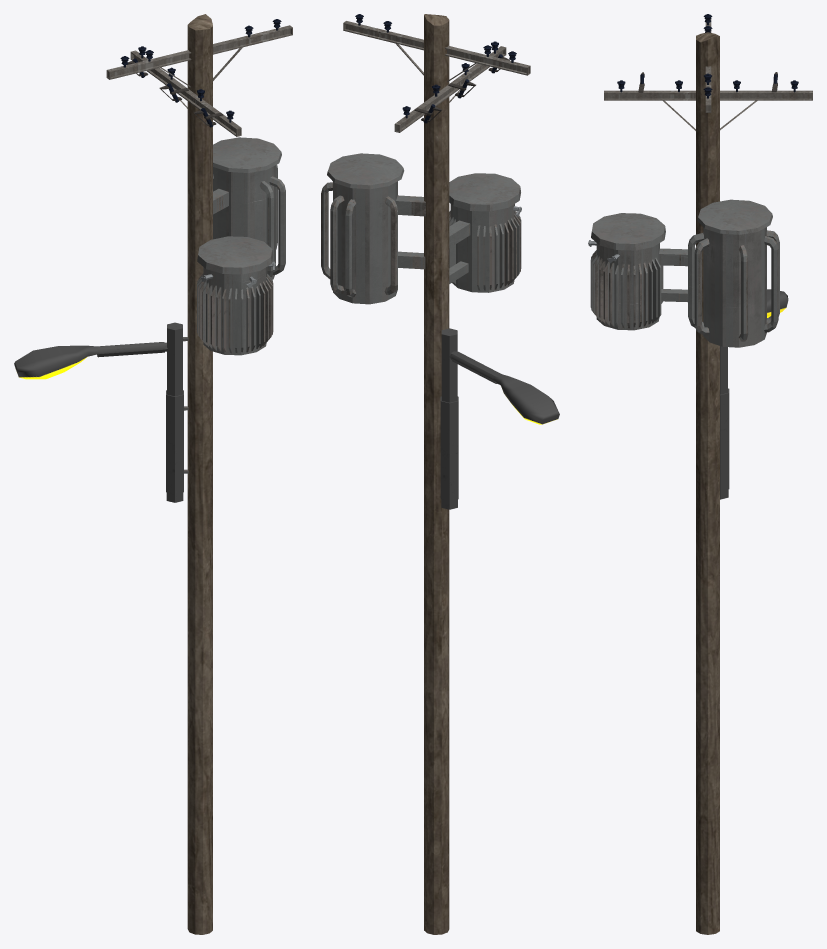
The model's file is 低压电杆.glb.
3 renders of one model, left to right at view 1: azimuth 30°, elevation 25°; view 2: azimuth 150°, elevation 25°; view 3: azimuth 270°, elevation 25°, orthographic.
Parts seen in each view (by area): view 1: BodyWoodenPoles_low, distributionTransformerBody_low (×2), BodylightPole_low, lightPole_low, body_low, body3_low, distributionTransformer1_3_low, distributionTransformer1_4_low; view 2: BodyWoodenPoles_low, distributionTransformerBody_low (×2), BodylightPole_low, lightPole_low, body_low, body3_low, distributionTransformer1_2_low, distributionTransformer1_6_low, distributionTransformer1_1_low, distributionTransformer1_5_low, Support1distributionTransformer1_low; view 3: BodyWoodenPoles_low, distributionTransformerBody_low (×2), body3_low, BodylightPole_low, distributionTransformer1_3_low, distributionTransformer1_2_low, distributionTransformer1_5_low, distributionTransformer1_4_low, Support1distributionTransformer2_low.
Boxes of the visible parts, x1,y1,x2,y2 form: BodyWoodenPoles_low: [187, 14, 212, 934]; distributionTransformerBody_low (×2): [197, 137, 281, 355]; BodylightPole_low: [166, 322, 183, 502]; lightPole_low: [14, 342, 167, 379]; body_low: [106, 25, 292, 79]; body3_low: [130, 50, 241, 136]; distributionTransformer1_3_low: [269, 176, 285, 274]; distributionTransformer1_4_low: [259, 181, 273, 276]; BodyWoodenPoles_low: [424, 14, 449, 934]; distributionTransformerBody_low (×2): [327, 153, 520, 304]; BodylightPole_low: [440, 328, 458, 509]; lightPole_low: [449, 351, 559, 424]; body_low: [343, 21, 530, 75]; body3_low: [394, 46, 506, 132]; distributionTransformer1_2_low: [330, 195, 344, 293]; distributionTransformer1_6_low: [384, 196, 397, 294]; distributionTransformer1_1_low: [345, 199, 356, 297]; distributionTransformer1_5_low: [321, 182, 332, 278]; Support1distributionTransformer1_low: [396, 195, 425, 216]; BodyWoodenPoles_low: [696, 32, 719, 934]; distributionTransformerBody_low (×2): [591, 199, 772, 347]; body3_low: [604, 90, 812, 100]; BodylightPole_low: [720, 346, 729, 499]; distributionTransformer1_3_low: [694, 238, 709, 335]; distributionTransformer1_2_low: [764, 236, 778, 332]; distributionTransformer1_5_low: [738, 245, 748, 341]; distributionTransformer1_4_low: [688, 233, 704, 327]; Support1distributionTransformer2_low: [659, 248, 687, 266].
Bounding box in the file's own units: 16.82 × 58.89 × 13.36.
1 material, 1 textured.
